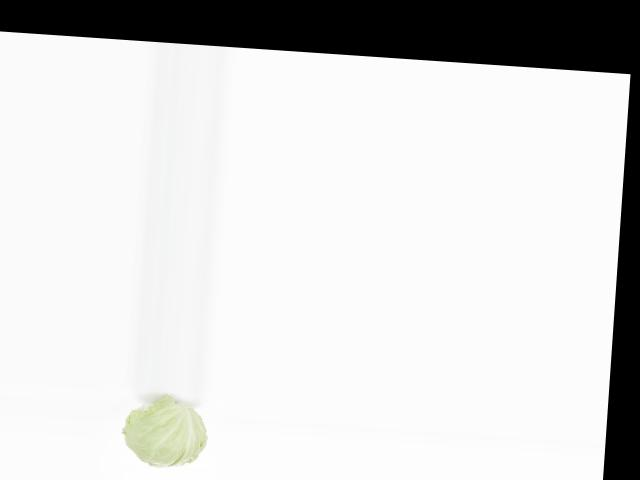lettuce: (117, 401, 214, 471)
